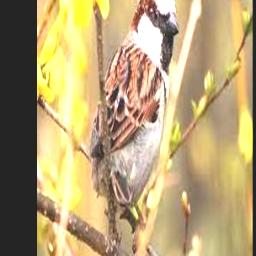Sparrow: (90, 0, 180, 229)
